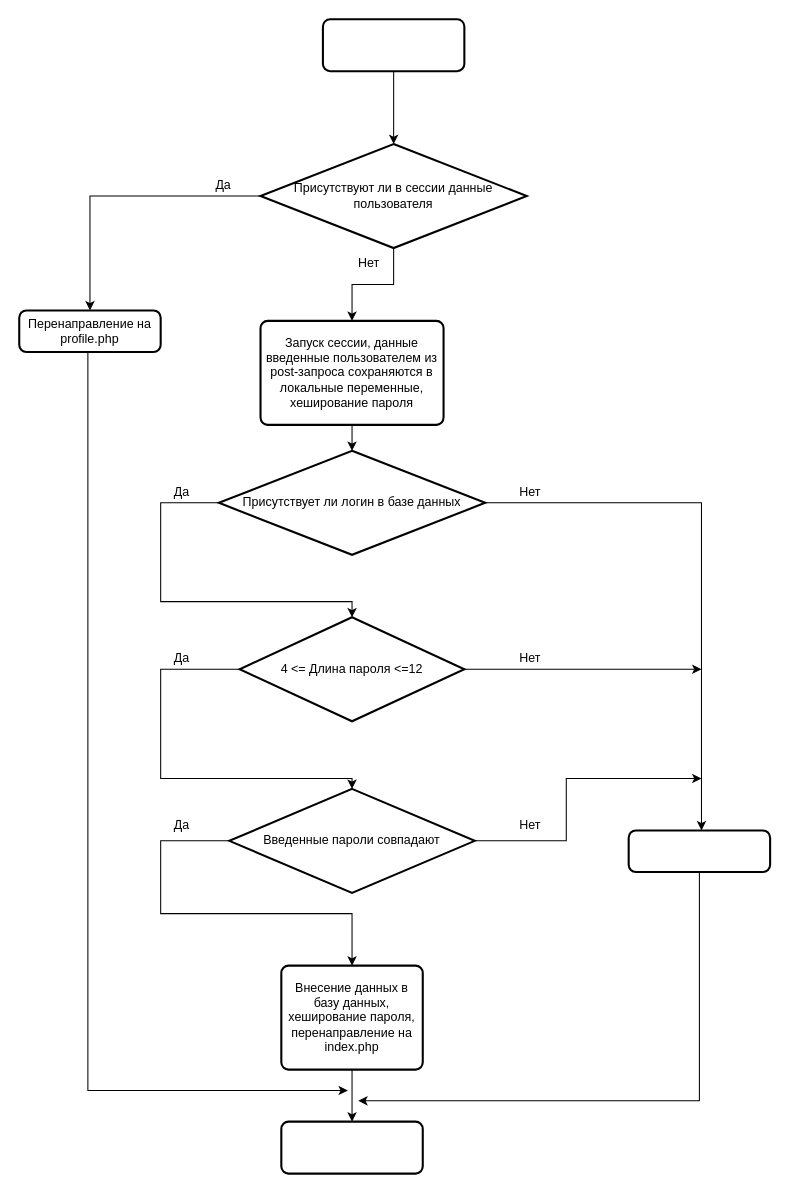
This 788x1192 diagram has some shape labels left out. The shapes that lost their labels are listed below. From the top down, each one's centre as x and y in pixels, then its label:
point 393,45: Начало алгоритма
point 699,851: Перенаправление на register.php
point 351,1147: Конец алгоритма
